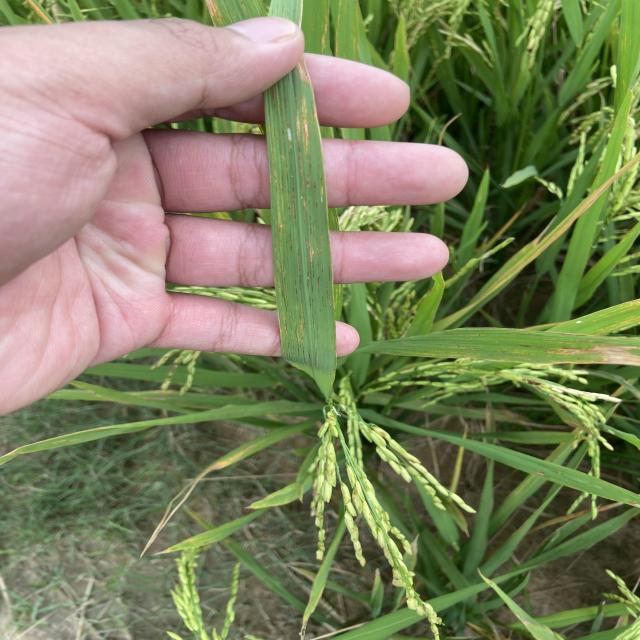Dom soc vi khuan: (295, 110, 306, 209), (275, 262, 294, 319), (272, 171, 286, 236), (297, 314, 307, 365), (300, 97, 309, 146), (281, 305, 288, 339), (291, 187, 297, 226), (309, 244, 315, 279), (286, 123, 293, 149), (295, 324, 300, 356), (320, 178, 324, 206), (289, 231, 293, 251), (291, 331, 294, 355)
